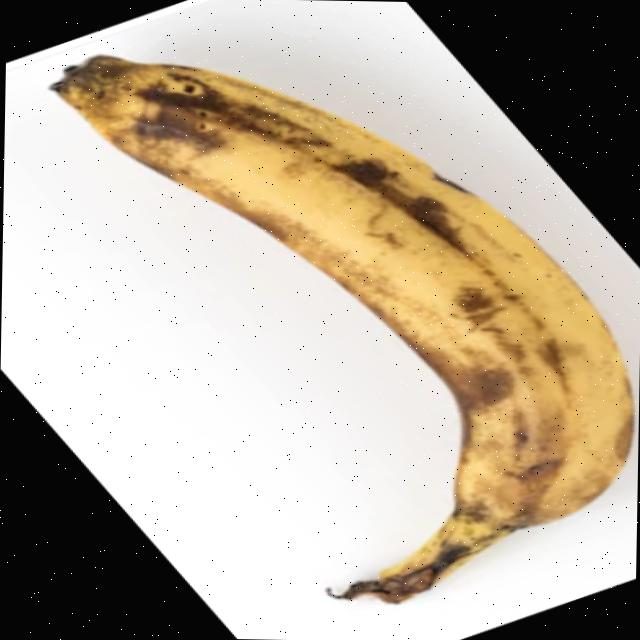overripe: (38, 49, 640, 592)
